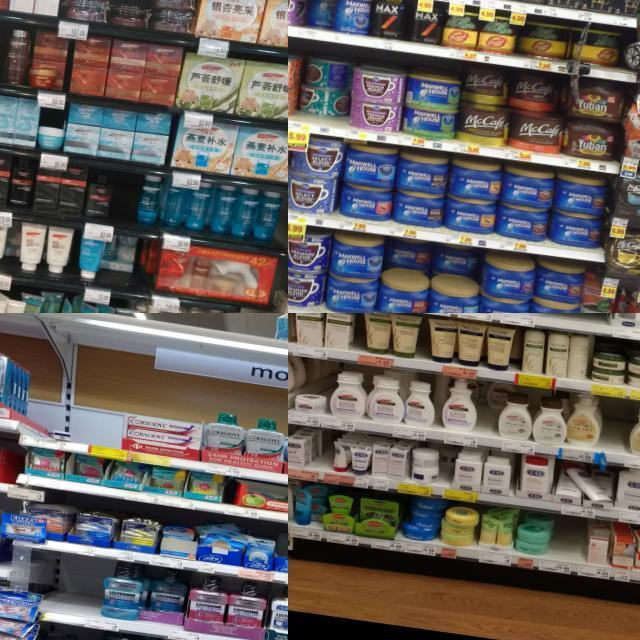empty: (52, 552, 104, 628), (68, 408, 122, 458), (597, 399, 633, 463), (548, 516, 586, 575), (108, 172, 140, 236), (546, 313, 608, 334)
